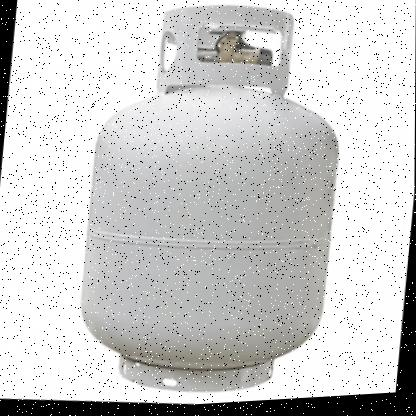gas-tank: (50, 0, 375, 413)
